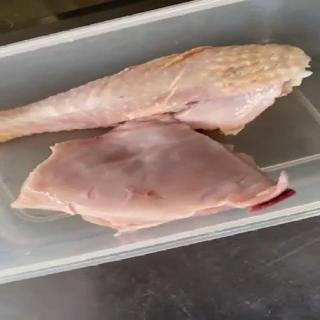Ayam: (11, 120, 290, 238), (1, 43, 314, 144)
